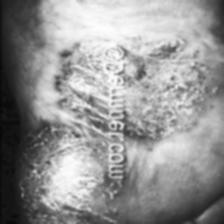Non-Cancerous Skin Condition: (59, 40, 194, 133)
